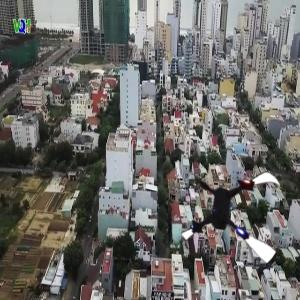drone: (178, 159, 297, 278)
